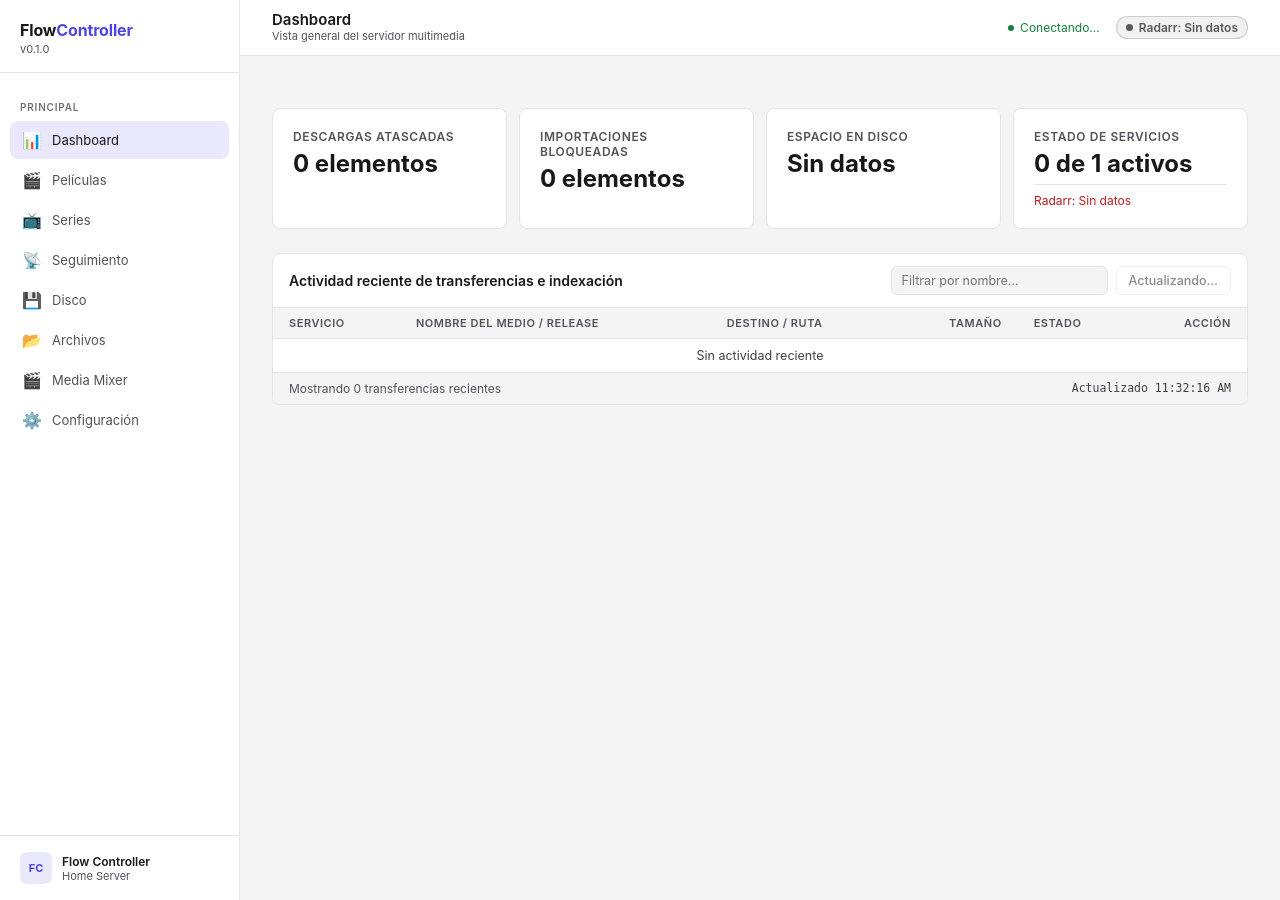
the app reflects what is configured › opens the Seguimiento board from the atascadas card (C-11)
Check: the link "📂 Archivos" is shown, box x1=22 y1=330 x2=106 y2=350
What coordinates should you click on to do the following:
click the button "Descargas atascadas 0 elementos"
I would click on:
 (390, 168)
Its box is x1=272 y1=108 x2=507 y2=229.
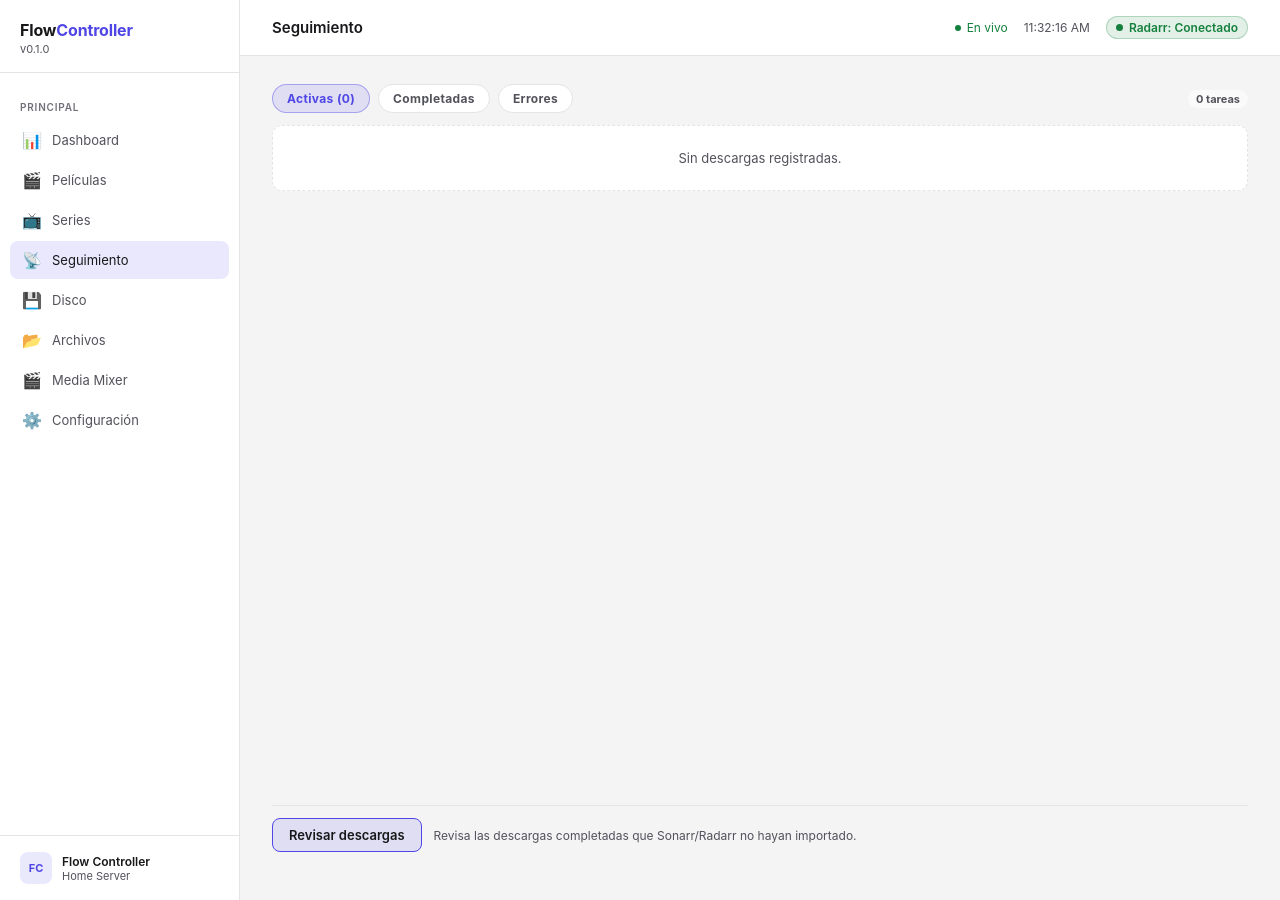
Check: the text "Sin descargas registradas." is shown, box x1=272 y1=125 x2=1248 y2=191
